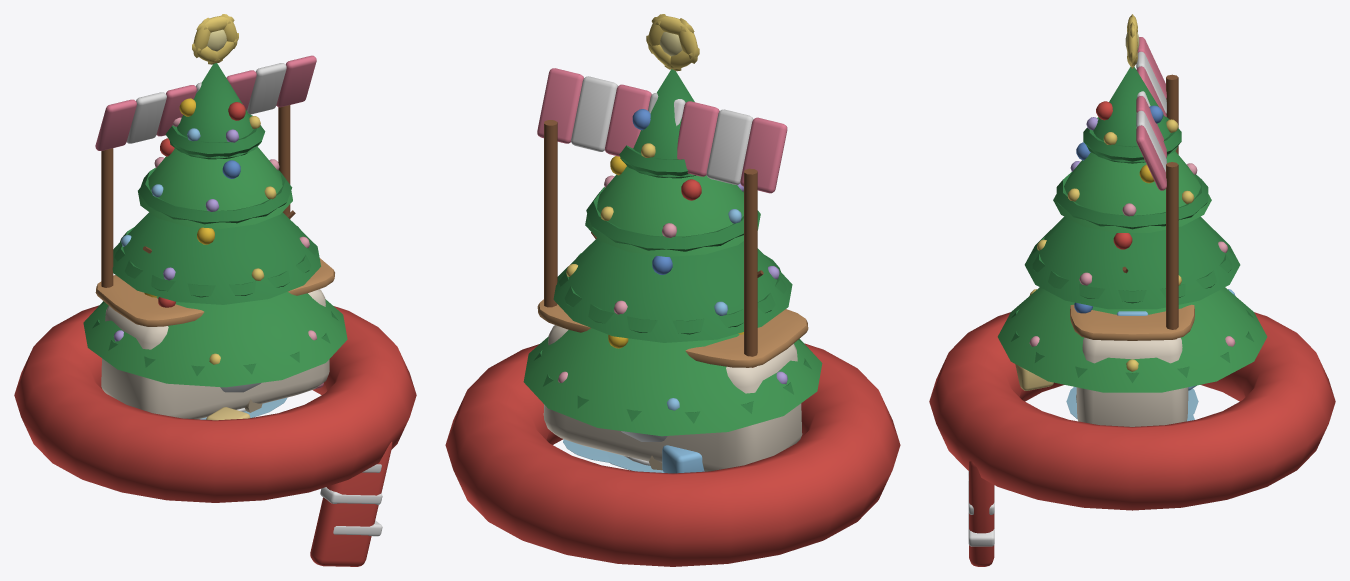
File: extras.glb
The picture shows the model from 3 angles, left to right: view 1: azimuth 30°, elevation 25°; view 2: azimuth 150°, elevation 25°; view 3: azimuth 270°, elevation 25°; orthographic projection. The views are drawn at different scales.
Visible parts, largest first — view 1: scarf, lichterbaum, contest_stand, lichterbaum__glow; view 2: lichterbaum, scarf, contest_stand, lichterbaum__glow, puddle; view 3: scarf, lichterbaum, contest_stand, lichterbaum__glow, puddle.
Boxes of the visible parts, <box> form: scarf: <box>14,305,416,566</box>; lichterbaum: <box>83,63,347,420</box>; contest_stand: <box>95,55,334,419</box>; lichterbaum__glow: <box>114,14,316,364</box>; lichterbaum: <box>523,69,822,473</box>; scarf: <box>445,343,900,566</box>; contest_stand: <box>537,68,808,471</box>; lichterbaum__glow: <box>558,14,787,410</box>; puddle: <box>563,439,663,472</box>; scarf: <box>929,312,1335,566</box>; lichterbaum: <box>997,66,1267,392</box>; contest_stand: <box>1070,37,1194,426</box>; lichterbaum__glow: <box>1029,14,1235,371</box>; puddle: <box>1066,386,1198,421</box>.
Bounding box in the file's own units: 2.56 × 3.58 × 2.56.
